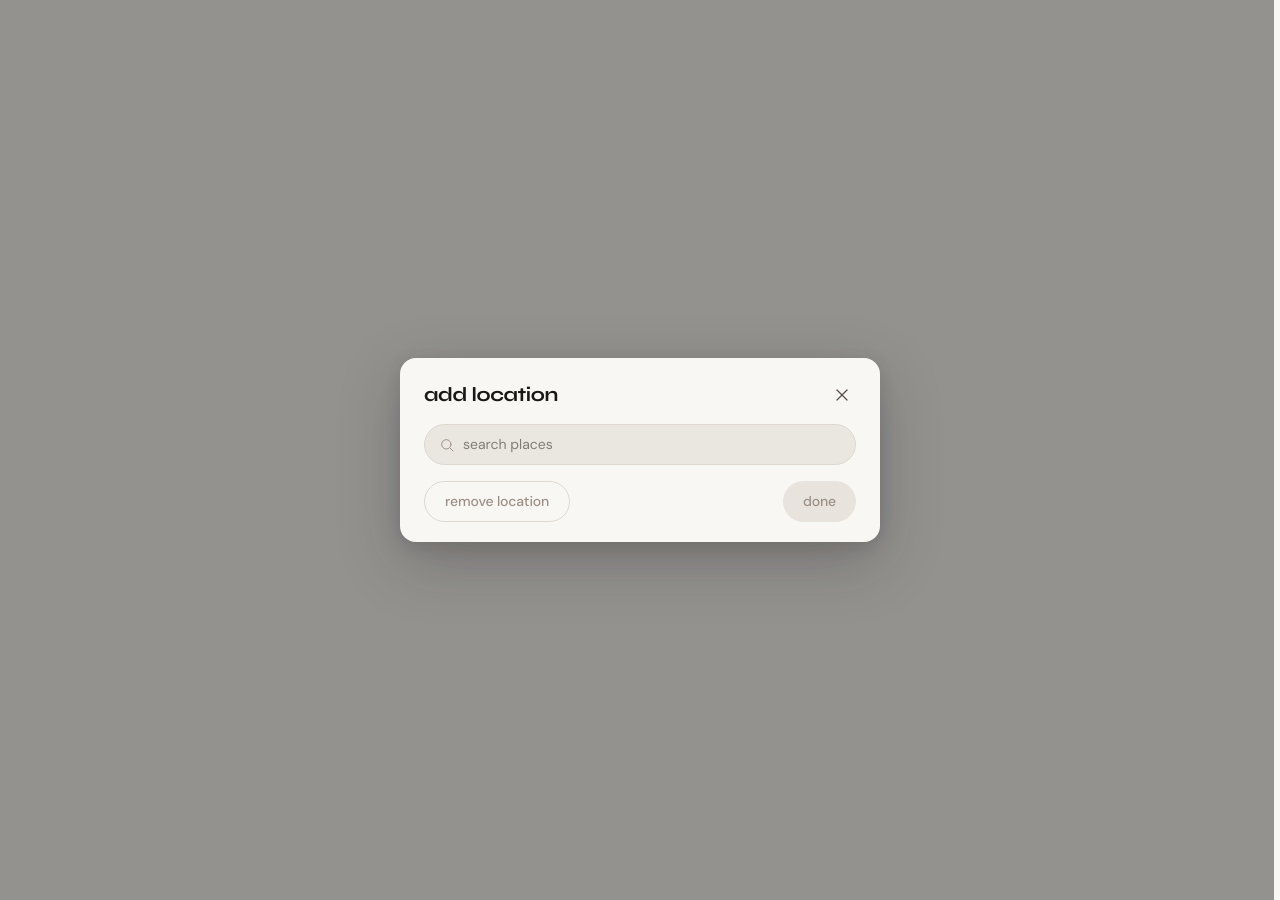
Scenario: PlacePicker › says the place is not available when the registry refuses the name
Step 1. Type "Pirate Copy" into the field labelled "search places" → (652, 444), box x1=463 y1=434 x2=841 y2=455
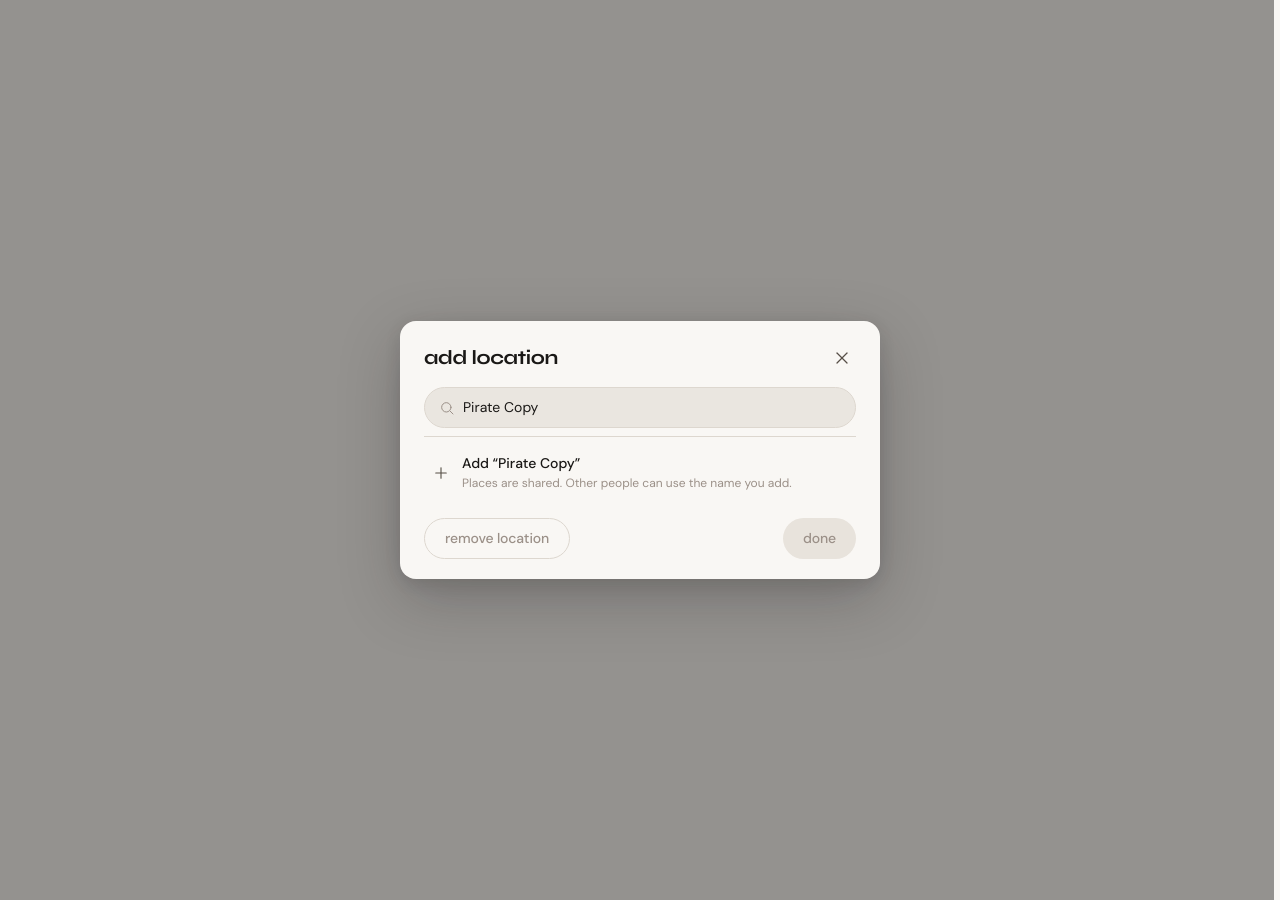
Step 2. Click the text "Add “Pirate Copy”" → (521, 463), box x1=462 y1=454 x2=580 y2=472
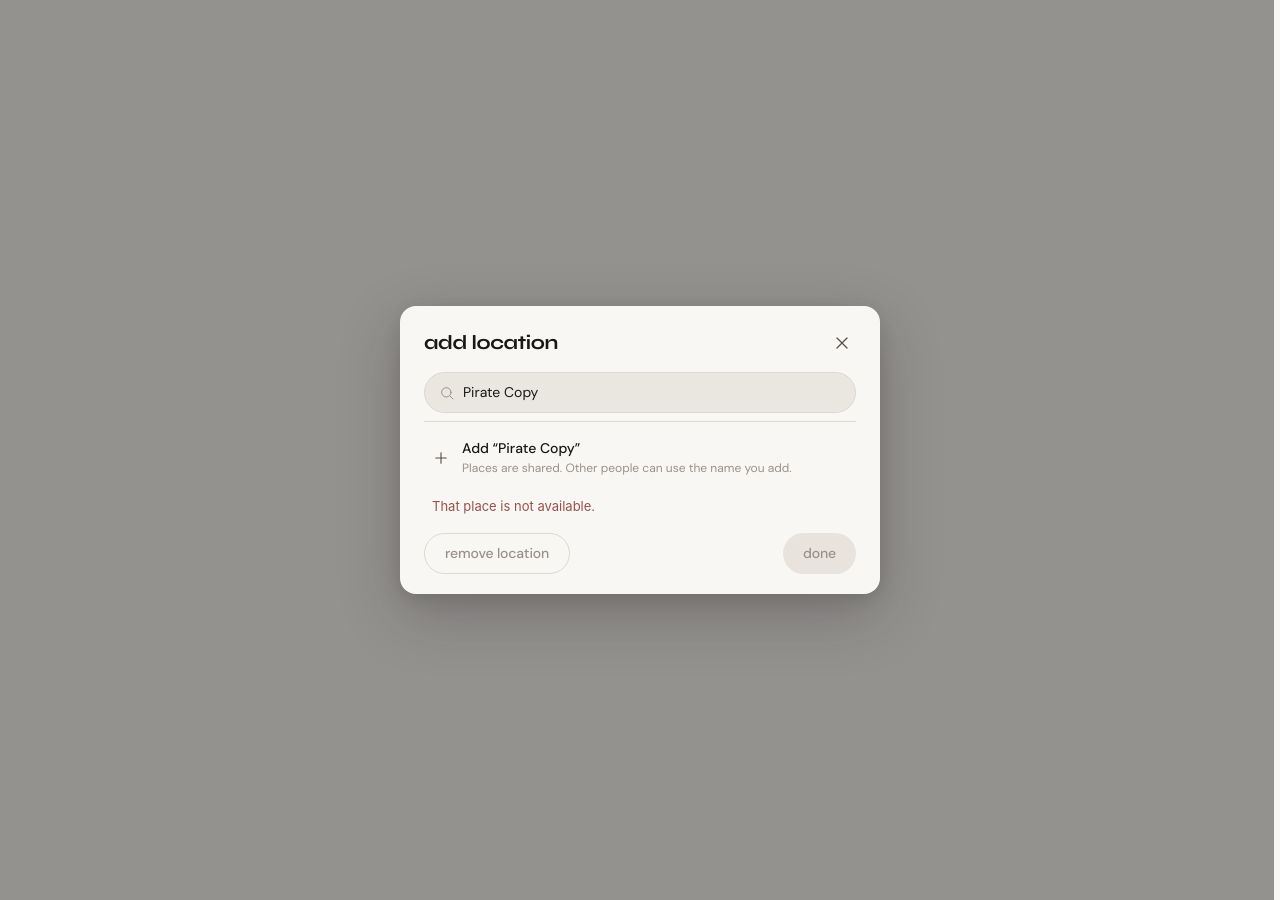
Expected: the button "done" is disabled, x1=783 y1=533 x2=856 y2=574
Expected: the message reads "That place is not available.", x1=432 y1=498 x2=595 y2=514
